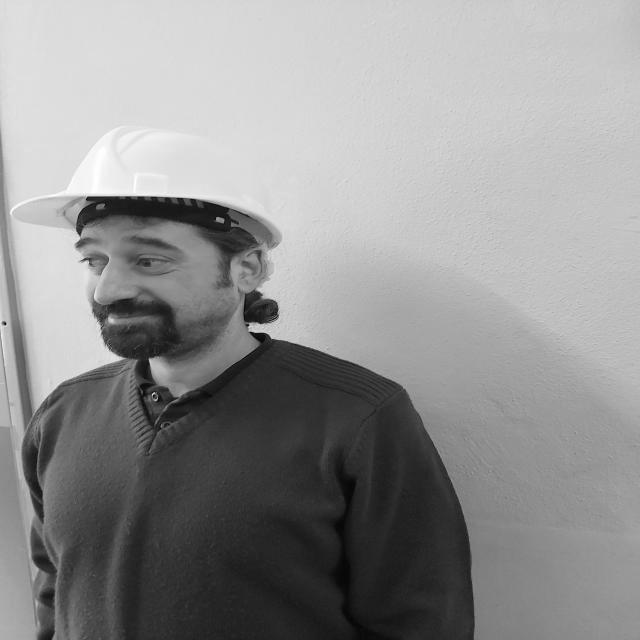construction helmet: (13, 127, 283, 253)
